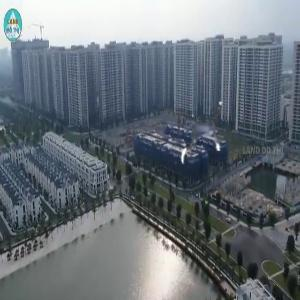drone: (171, 105, 237, 171)
